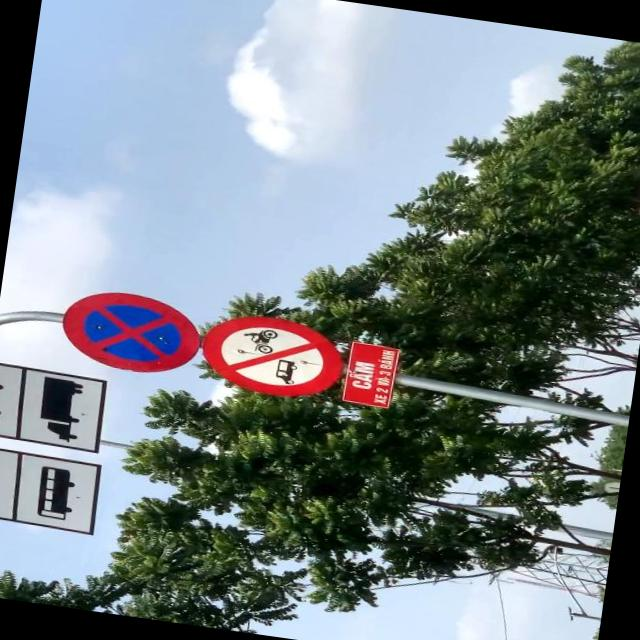P-104: (199, 309, 350, 405)
P-130: (56, 284, 207, 380)
